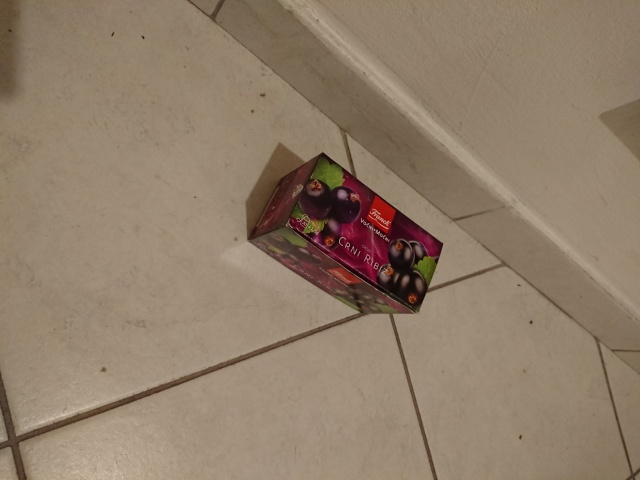Franck Black Currant Tea 60g: (245, 150, 446, 317)
